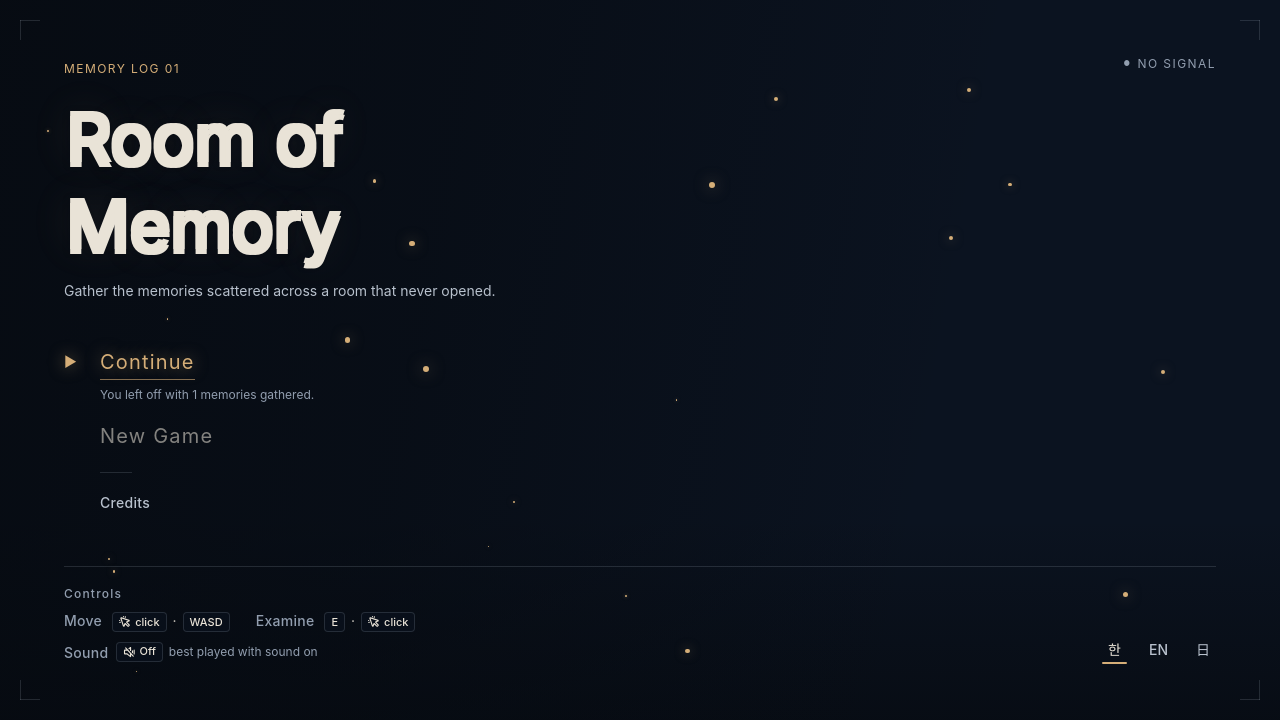
TitleScreen › 새 게임 확인에서 취소하면 아무것도 지워지지 않는다
Click the button "New Game". click: (192, 436)
box: x1=64 y1=412 x2=320 y2=460
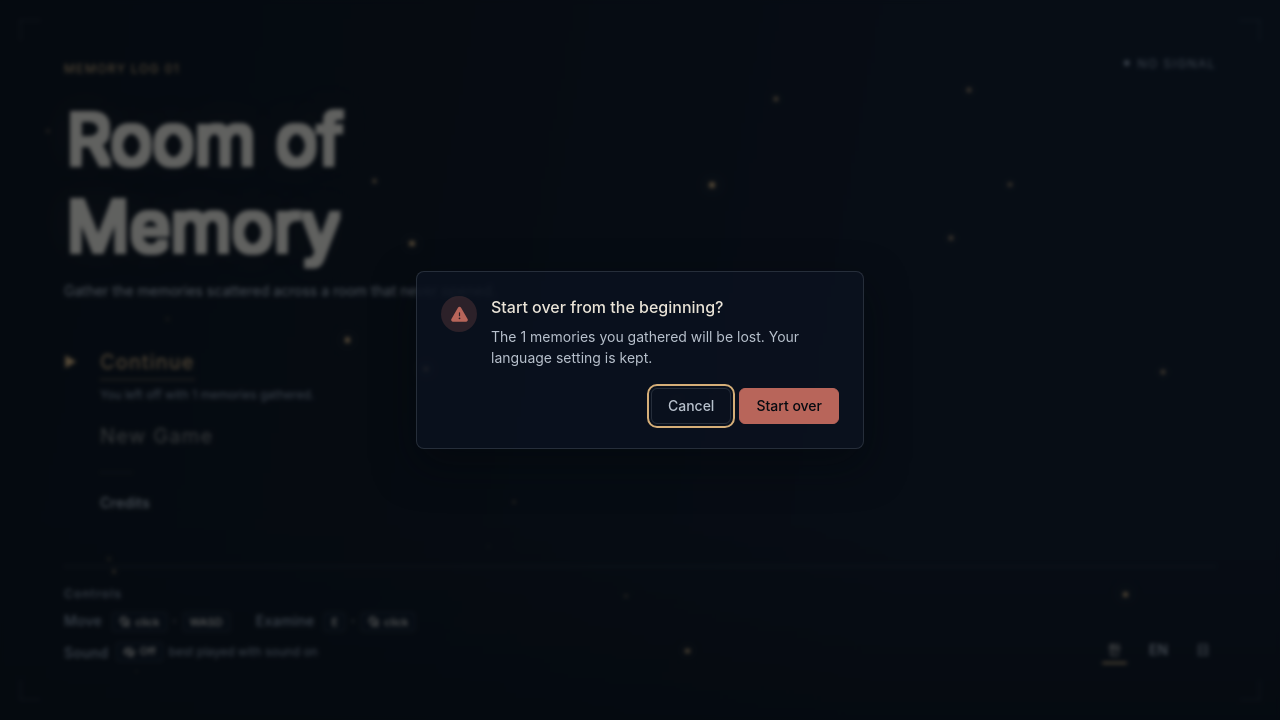
Click the button "Cancel". click: (691, 406)
box: x1=651 y1=388 x2=731 y2=424
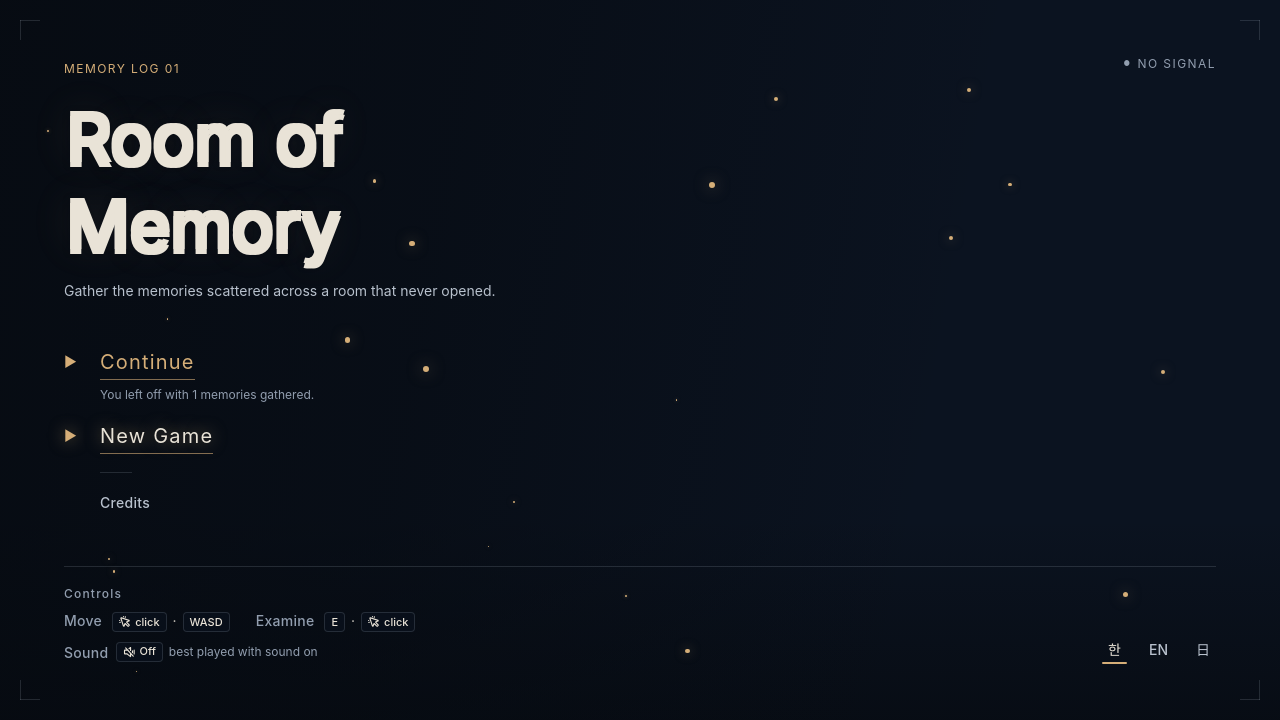
Result: the dialog is gone
